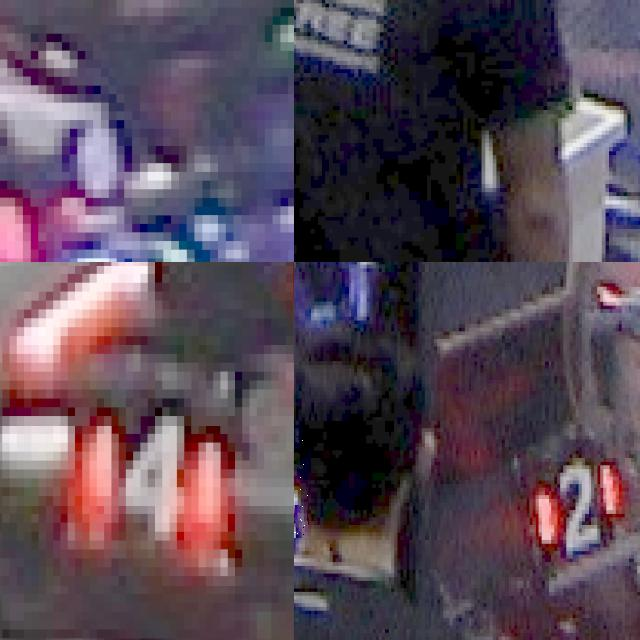R2: (531, 448, 630, 556)
R4: (82, 408, 228, 550)
